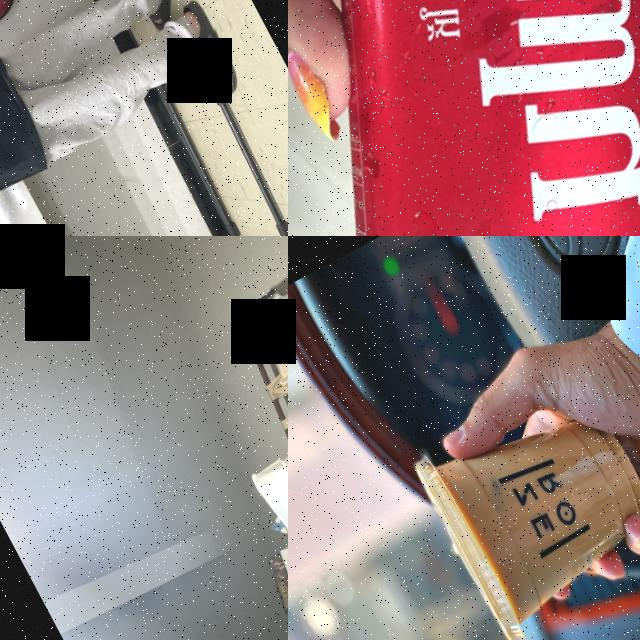can: (288, 0, 640, 236)
cup: (408, 367, 640, 640)
